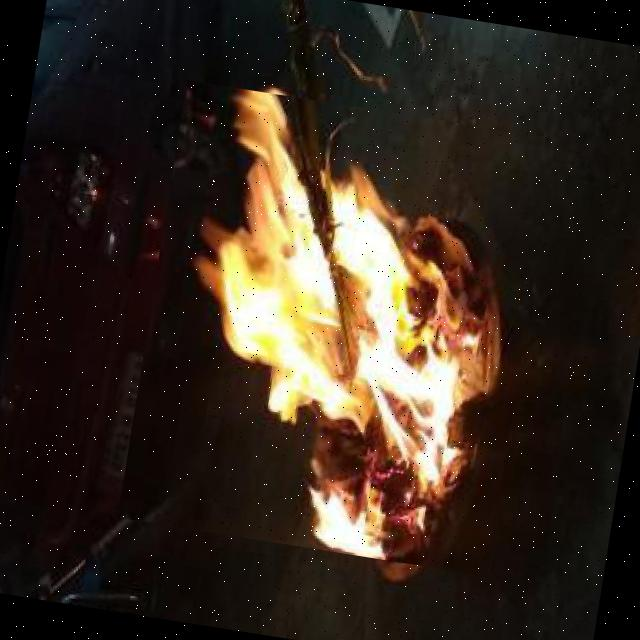fire: (118, 80, 556, 576)
